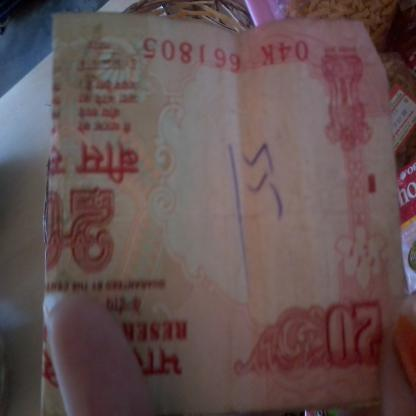Old20Front: (53, 14, 390, 400)
